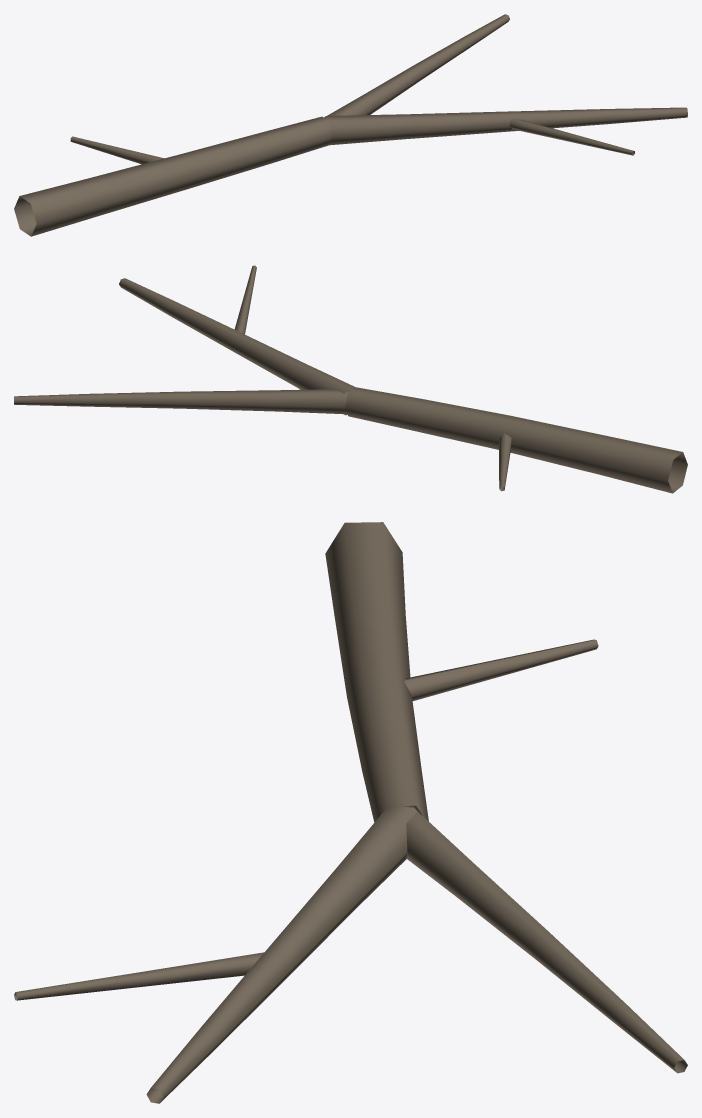
Rendered from branch_b.glb.
3 views of the same model, one above another, from view 1: azimuth 30°, elevation 25°; view 2: azimuth 150°, elevation 25°; view 3: azimuth 270°, elevation 25° (orthographic). The views are drawn at different scales.
Visible parts, largest first — view 1: branch_b; view 2: branch_b; view 3: branch_b.
Boxes of the visible parts, left/top/right/bottom form: branch_b: left=14, top=14, right=687, bottom=236; branch_b: left=14, top=265, right=687, bottom=493; branch_b: left=14, top=522, right=687, bottom=1103.
Size of the model in its own units: 1.66 by 0.0866 by 0.8713.
